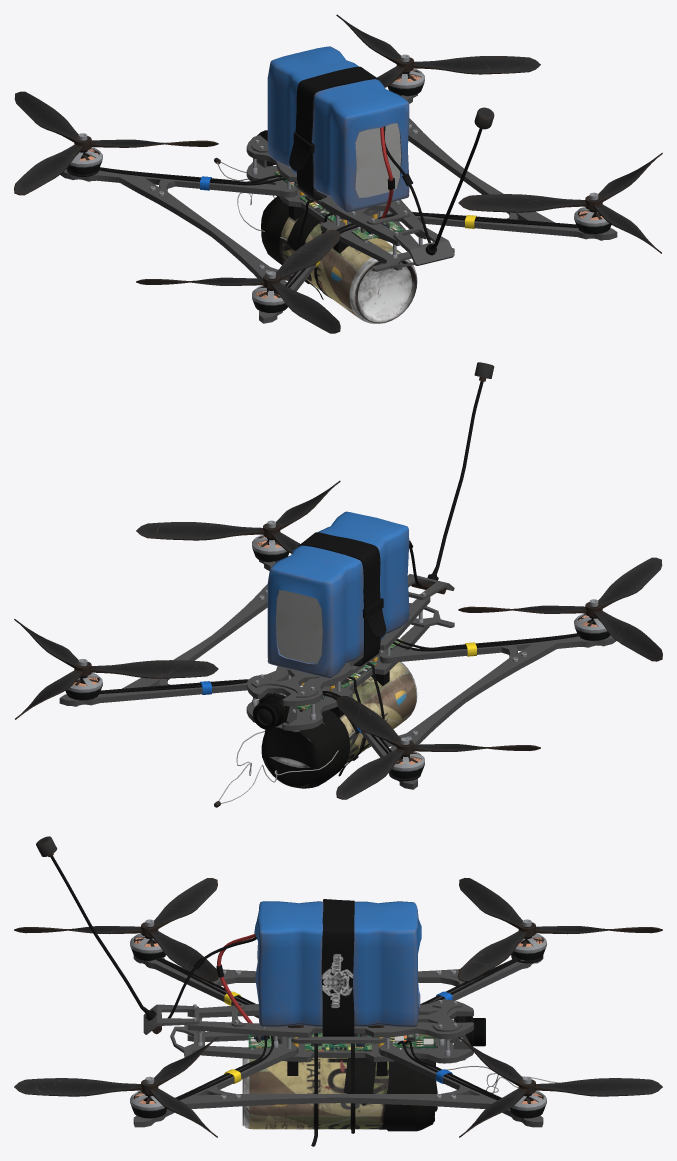
The model's file is fpv-dron_nonstop.glb.
3 renders of one model, top to bottom at view 1: azimuth 30°, elevation 25°; view 2: azimuth 150°, elevation 25°; view 3: azimuth 270°, elevation 25°, orthographic.
Parts seen in each view (by area): view 1: BezierCurve.004; view 2: BezierCurve.004; view 3: BezierCurve.004.
Boxes of the visible parts, x1,y1,x2,y2 form: BezierCurve.004: (14,14,662,333); BezierCurve.004: (14,362,662,807); BezierCurve.004: (14,836,662,1146).
Size of the model in its own units: 1.03 by 0.5629 by 1.1.
1 material, 1 textured.
